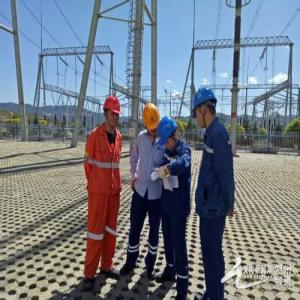blue: (193, 87, 221, 129), (158, 116, 180, 148)
red: (104, 96, 122, 129)
yellow: (143, 103, 161, 135)
